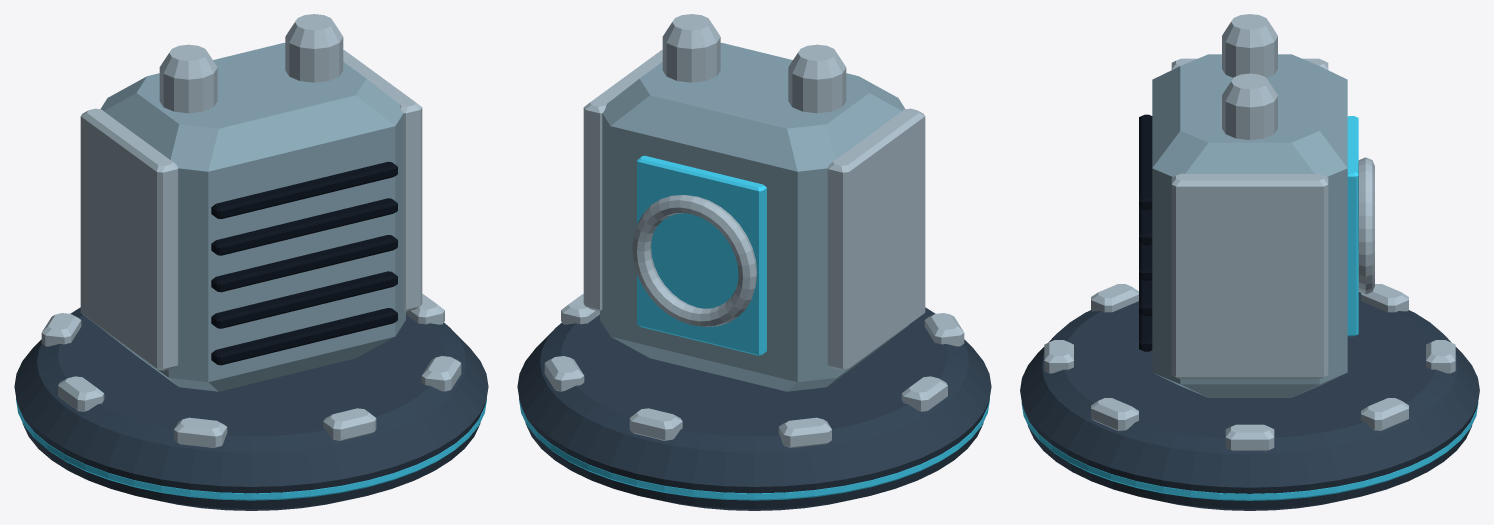
Rendered from overload.obj.
3 views of the same model, side by side, from view 1: azimuth 30°, elevation 25°; view 2: azimuth 150°, elevation 25°; view 3: azimuth 270°, elevation 25° (orthographic). The views are drawn at different scales.
Parts seen in each view (by area): view 1: overload; view 2: overload; view 3: overload.
Part boxes in pixels (box(x1,y1,x2,y2)): overload: box(14, 14, 488, 510); overload: box(517, 14, 991, 510); overload: box(1020, 14, 1479, 510).
Size of the model in its own units: 0.294 by 0.268 by 0.294.
